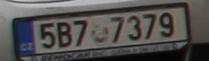3: (127, 16, 141, 40)
5: (40, 23, 55, 48)
7: (142, 14, 157, 40), (74, 21, 87, 47), (111, 17, 123, 42)
9: (159, 12, 174, 37)
B: (57, 22, 72, 47)
